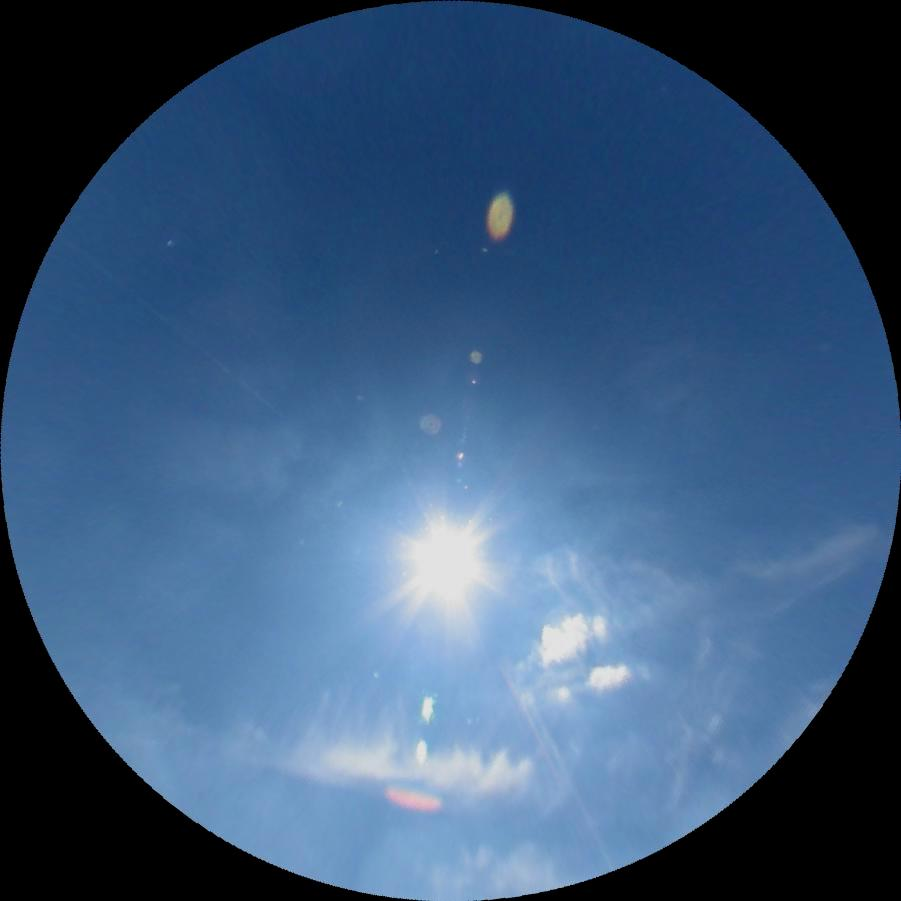contrail veryold: (532, 522, 899, 643)
parasite: (59, 227, 285, 420), (530, 703, 615, 871), (500, 666, 564, 789)
sun: (403, 514, 489, 605)
